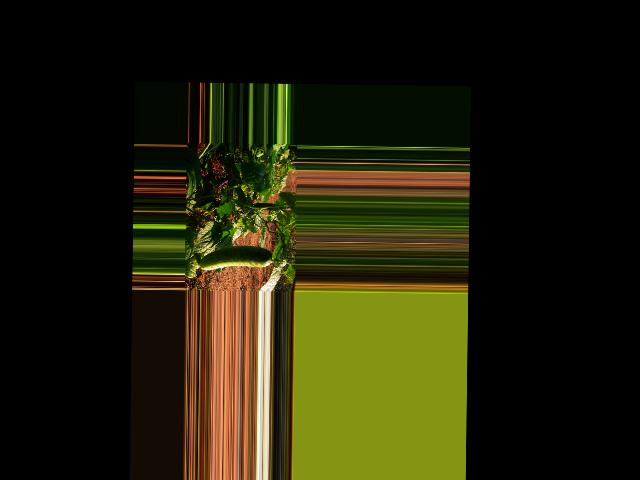cucumber: (199, 245, 271, 271)
